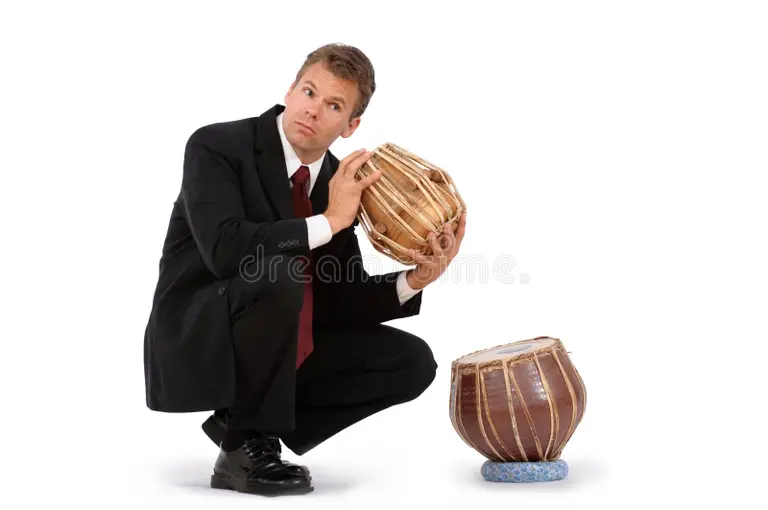tabla: (448, 336, 586, 464), (354, 142, 462, 263)
